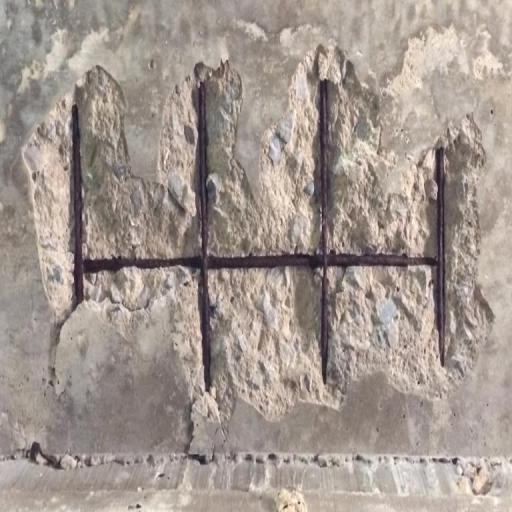spalling: (28, 46, 505, 422)
